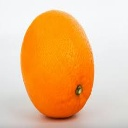orange: (20, 8, 95, 122)
